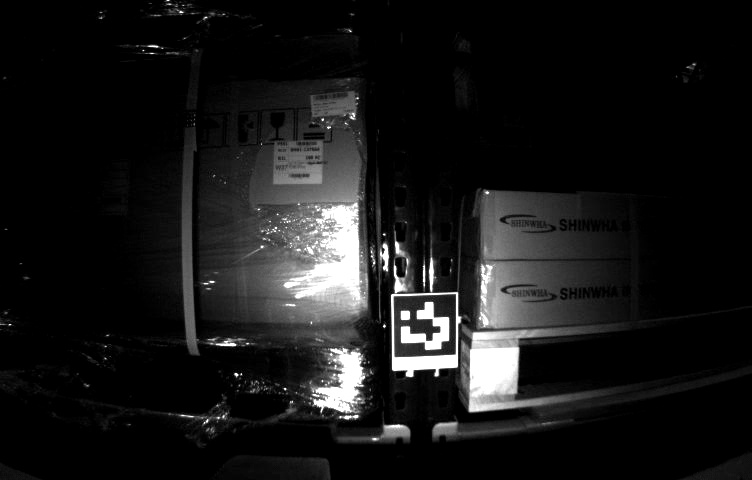True Barcode: (271, 139, 323, 185)
